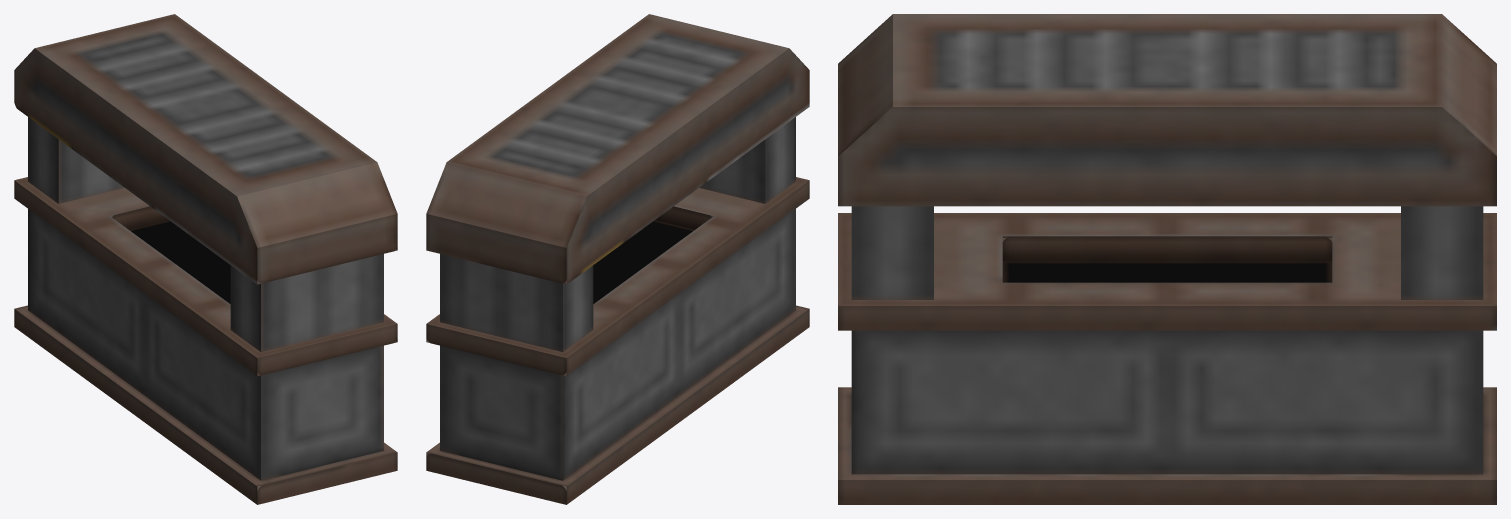
The model's file is ammo_press_frame_world.obj.
3 views of the same model, side by side, from view 1: azimuth 30°, elevation 25°; view 2: azimuth 150°, elevation 25°; view 3: azimuth 270°, elevation 25° (orthographic). The views are drawn at different scales.
Visible parts, largest first — view 1: Frame; view 2: Frame; view 3: Frame.
Part boxes in pixels (box(x1,y1,x2,y2)): Frame: box(14, 14, 397, 504); Frame: box(426, 14, 809, 504); Frame: box(838, 14, 1496, 504).
Size of the model in its own units: 1 by 2 by 3.
